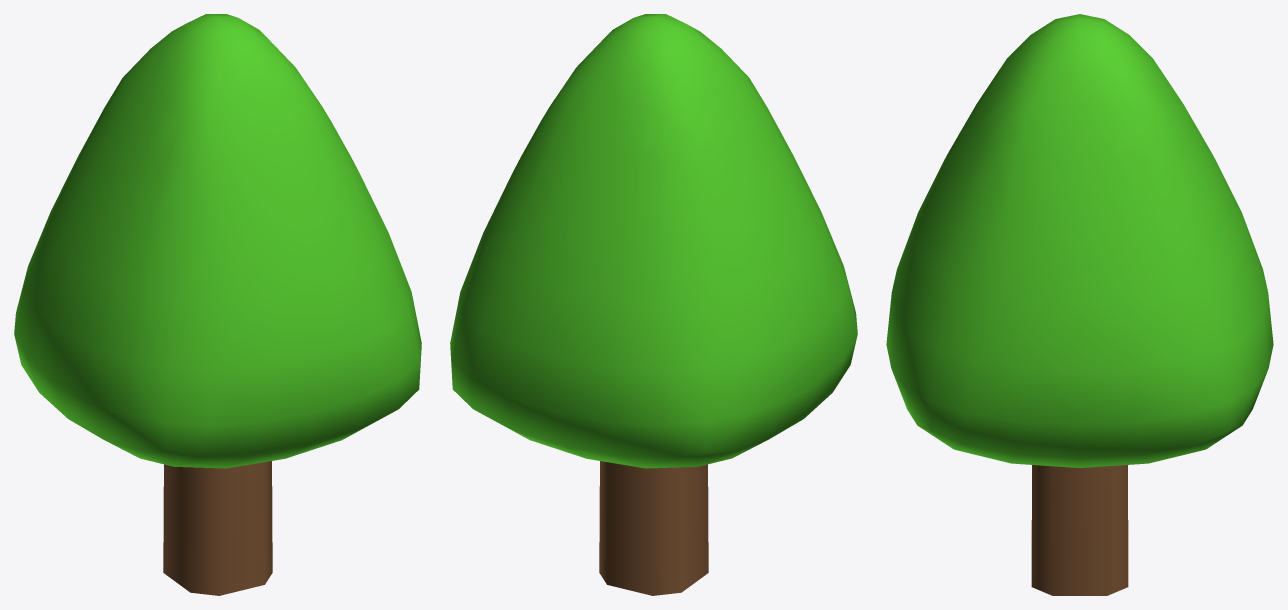
File: tree02_s02.FBX
The picture shows the model from 3 angles, left to right: view 1: azimuth 30°, elevation 25°; view 2: azimuth 150°, elevation 25°; view 3: azimuth 270°, elevation 25°; orthographic projection.
Visible parts, largest first — view 1: tree02_s02; view 2: tree02_s02; view 3: tree02_s02.
Boxes of the visible parts, left/top/right/bottom form: tree02_s02: left=14, top=14, right=421, bottom=595; tree02_s02: left=450, top=14, right=857, bottom=595; tree02_s02: left=886, top=14, right=1273, bottom=595.
Size of the model in its own units: 232 by 235 by 373.
1 material, 1 textured.
